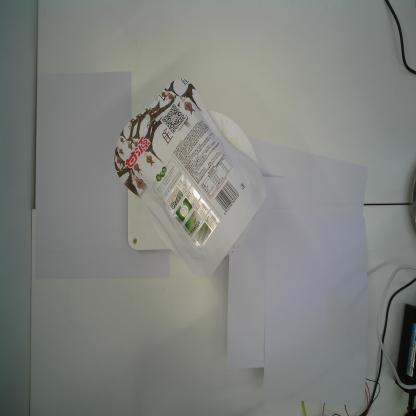Dried Fruit: (114, 77, 267, 278)
